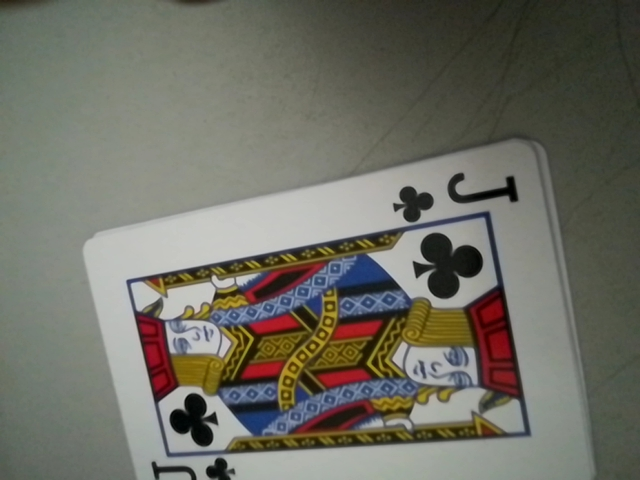mh j: (386, 163, 528, 227), (146, 444, 235, 480)
